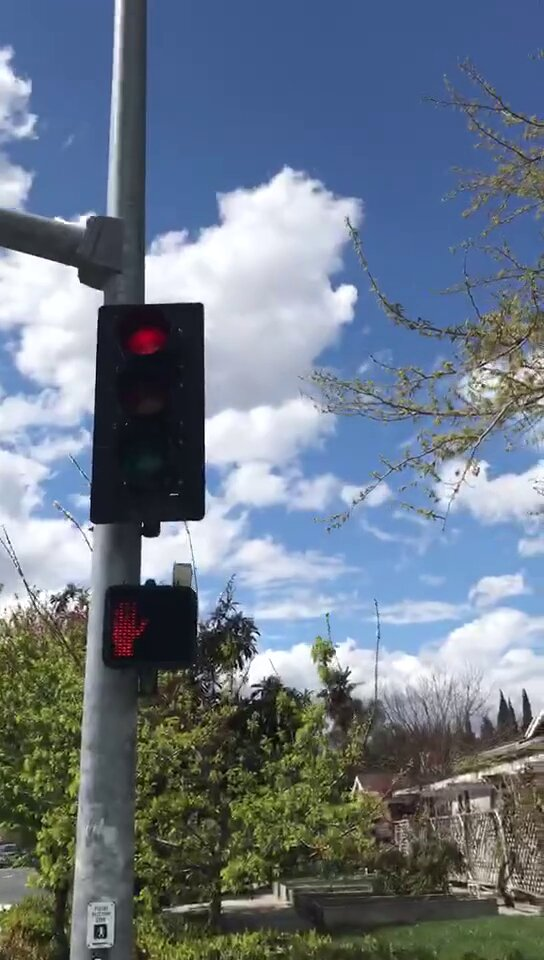red_light: (97, 306, 204, 515)
